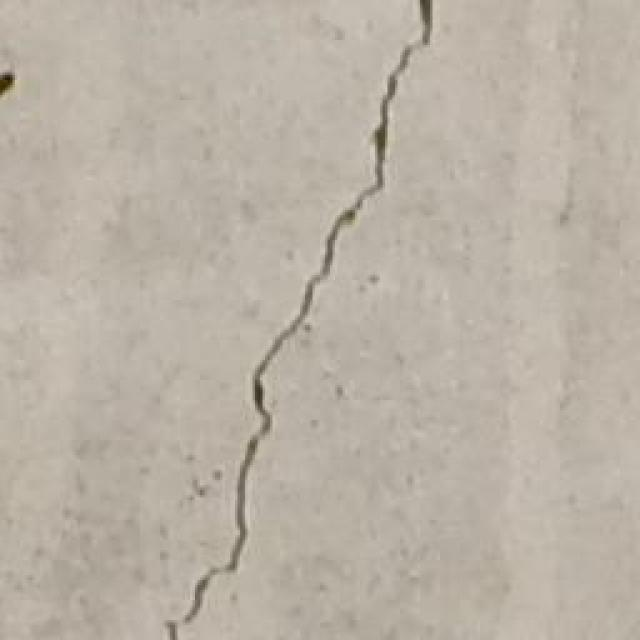concrete-crack: (164, 0, 435, 640)
